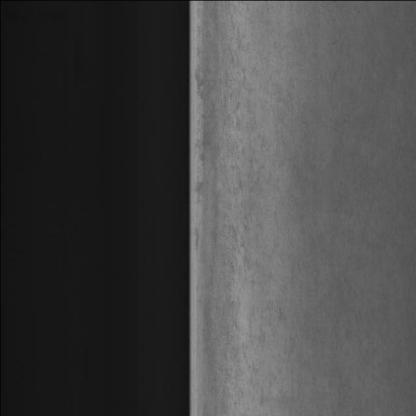silk_spot: (213, 40, 273, 375)
